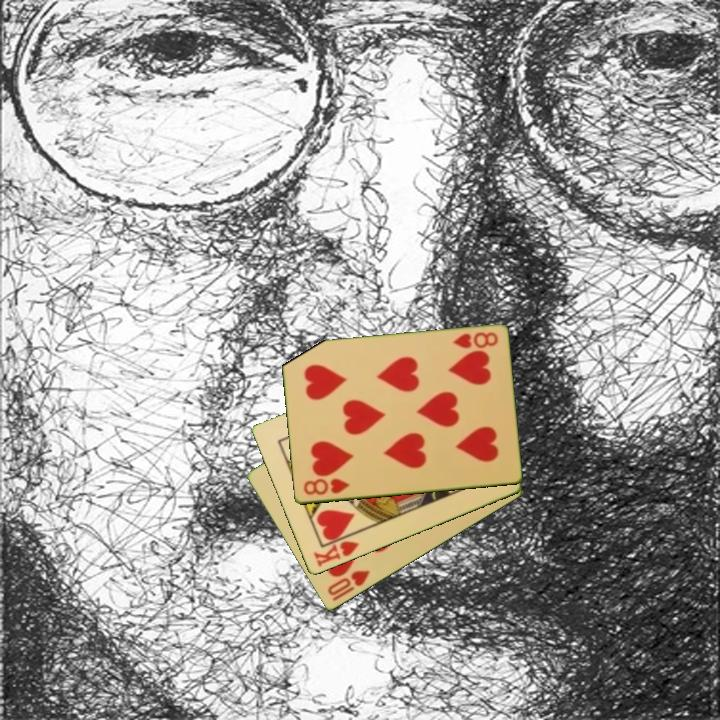10h: (324, 567, 373, 604)
8h: (300, 475, 352, 498), (449, 329, 501, 352)
Kh: (310, 530, 361, 571)
